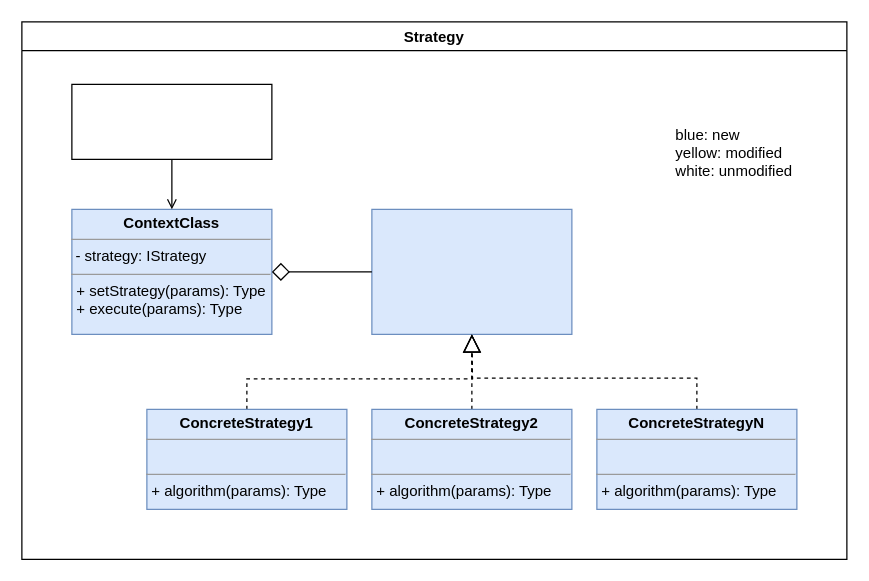
The diagram is 869 pixels wide and 581 high, and some of its shapes have lost their labels. Each missing label, with the centre of its shape:
<<Interface>> IStrategy + algorithm(params): Type: point (471, 271)
ClientClass: point (171, 121)
